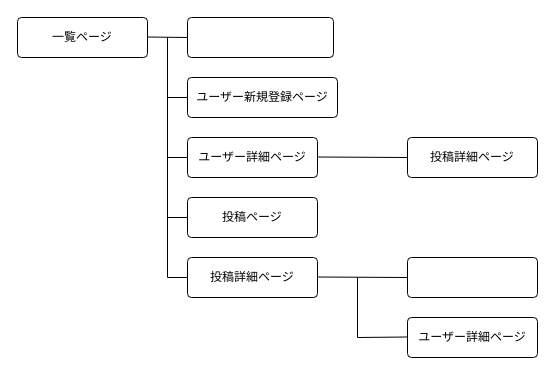
Some shapes in this 555 by 375 pixel diagram are drawn without their labels. Each missing label, with the centre of its shape:
ユーザーログインページ: (x=260, y=37)
投稿編集ページ: (x=472, y=277)
